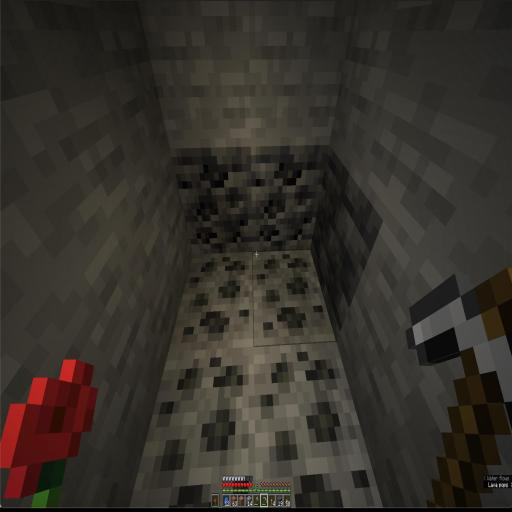coal ore: (140, 143, 389, 512)
